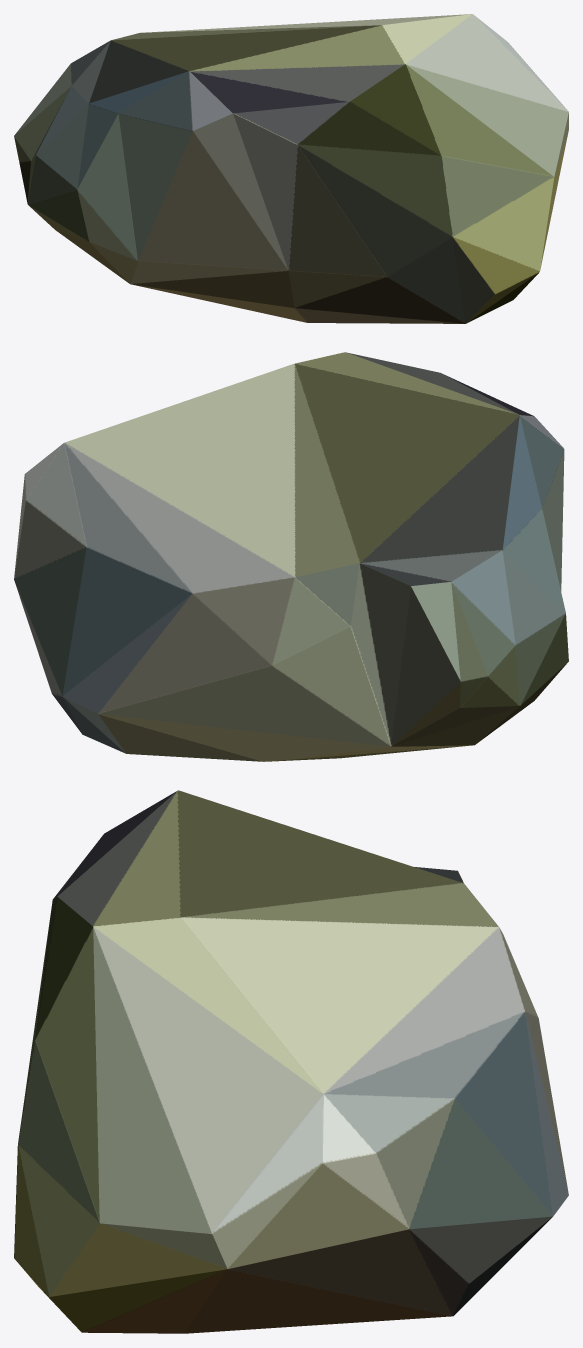
Rendered from stone.fbx.
The picture shows the model from 3 angles, top to bottom: view 1: azimuth 30°, elevation 25°; view 2: azimuth 150°, elevation 25°; view 3: azimuth 270°, elevation 25°; orthographic projection. The views are drawn at different scales.
Visible parts, largest first — view 1: Mesh_0; view 2: Mesh_0; view 3: Mesh_0.
Part boxes in pixels (box(x1,y1,x2,y2)): Mesh_0: box(14, 14, 568, 323); Mesh_0: box(14, 352, 568, 761); Mesh_0: box(14, 790, 568, 1333).
Bounding box in the file's own units: 118 × 67.22 × 90.31.
Materials: 1 (1 with a texture image).
